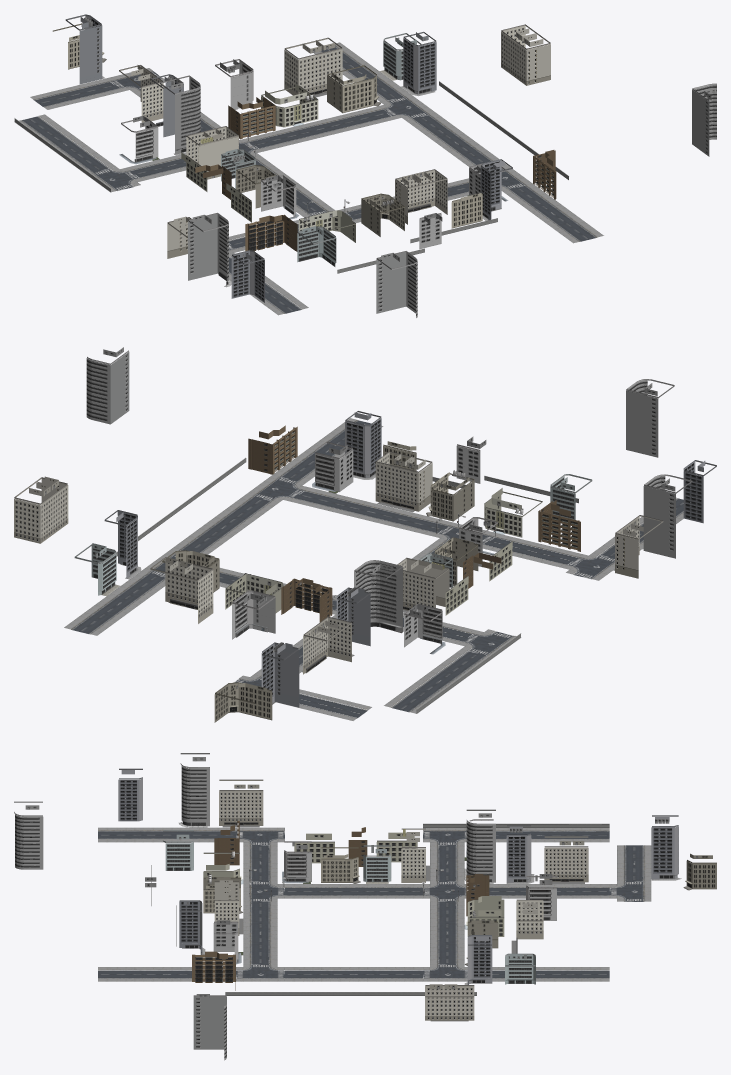
File: st_010_buil.fbx
3 renders of one model, top to bottom at view 1: azimuth 30°, elevation 25°; view 2: azimuth 150°, elevation 25°; view 3: azimuth 270°, elevation 25°, orthographic. The views are drawn at different scales.
Parts seen in each view (by area): view 1: st_010_Buil; view 2: st_010_Buil; view 3: st_010_Buil.
Part boxes in pixels (x1,y1,x2,y2): st_010_Buil: [14, 14, 716, 317]; st_010_Buil: [14, 347, 716, 722]; st_010_Buil: [14, 753, 716, 1060].
Bounding box in the file's own units: 957 × 110 × 1122.
